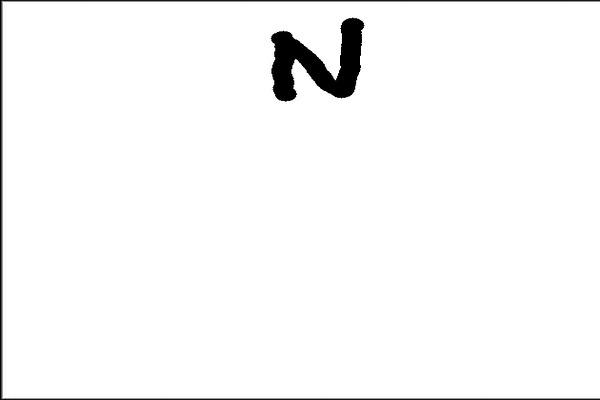N: (259, 12, 372, 106)
